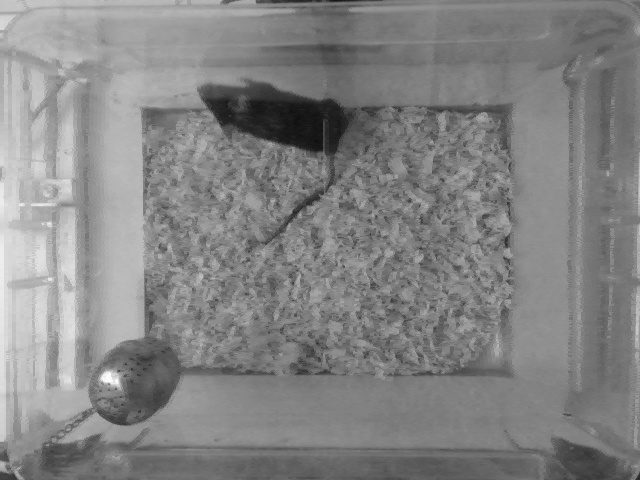mice: (199, 91, 346, 240)
